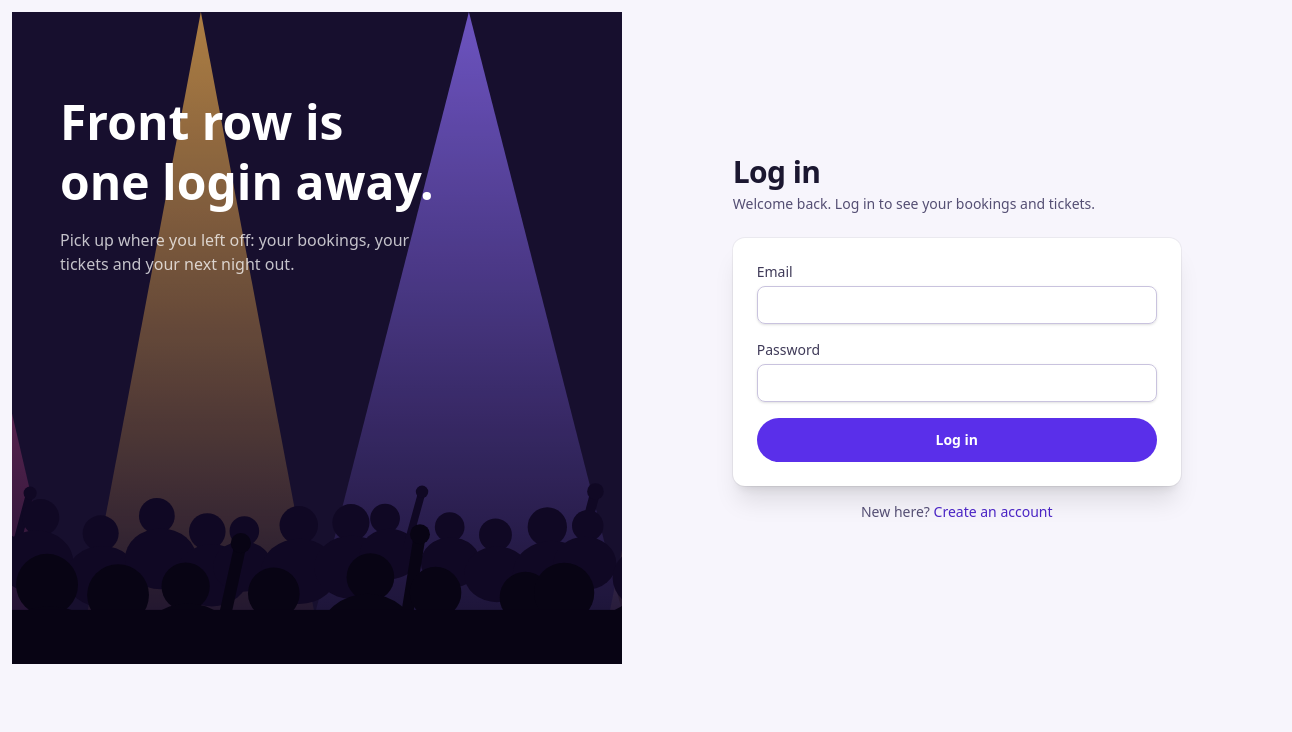
Test case: LoginPage › asks for missing fields without calling the server
Click the button "Log in": click(957, 440) [757,418,1157,462]
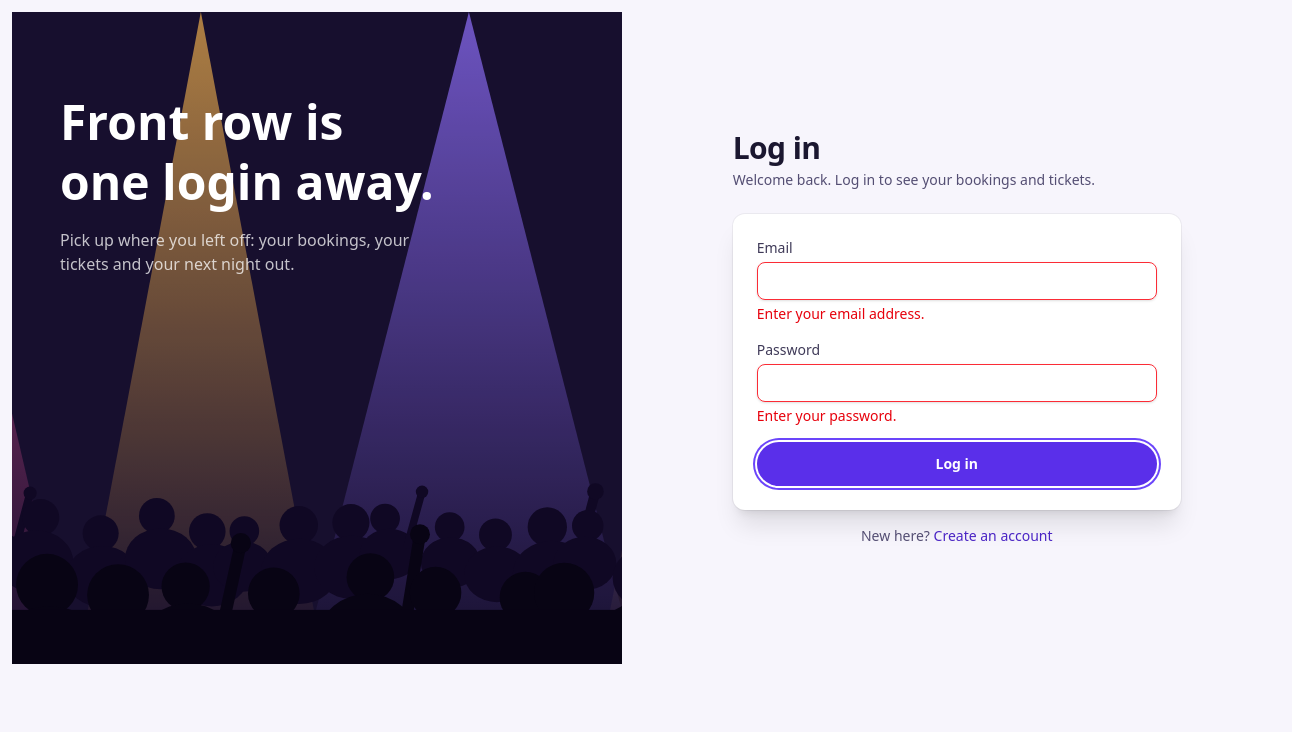
expect the text "Enter your email address." is shown: met, box [757,304,925,323]
expect the text "Enter your password." is shown: met, box [757,406,896,425]
